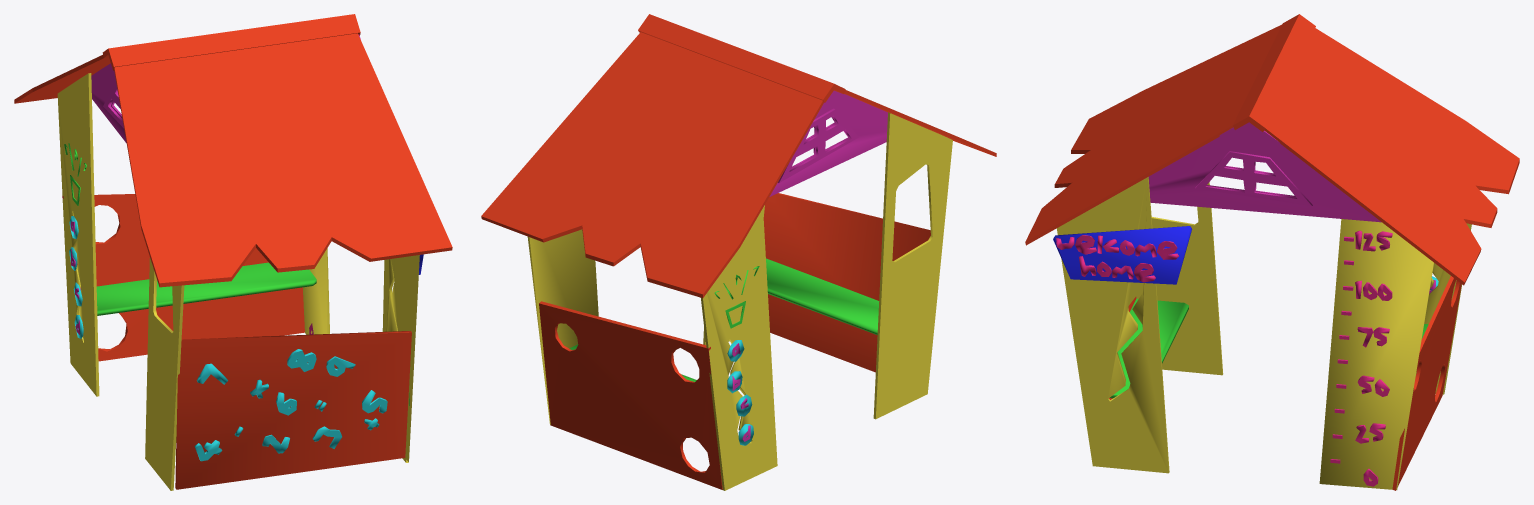
Rendered from casetta2.fbx.
3 renders of one model, left to right at view 1: azimuth 30°, elevation 25°; view 2: azimuth 150°, elevation 25°; view 3: azimuth 270°, elevation 25°, orthographic. The views are drawn at different scales.
Parts seen in each view (by area): view 1: casetta; view 2: casetta; view 3: casetta.
Boxes of the visible parts, bbox=[...] form: casetta: bbox=[14, 14, 452, 490]; casetta: bbox=[481, 14, 996, 490]; casetta: bbox=[1025, 14, 1519, 490].
Bounding box in the file's own units: 727 × 774 × 955.
